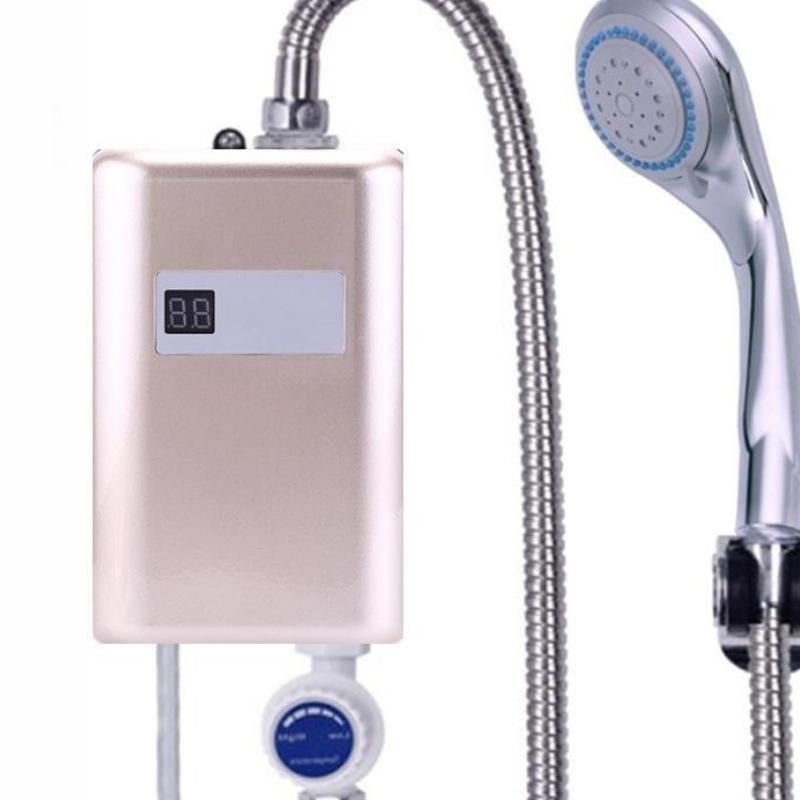Ducha: (97, 0, 800, 800)
